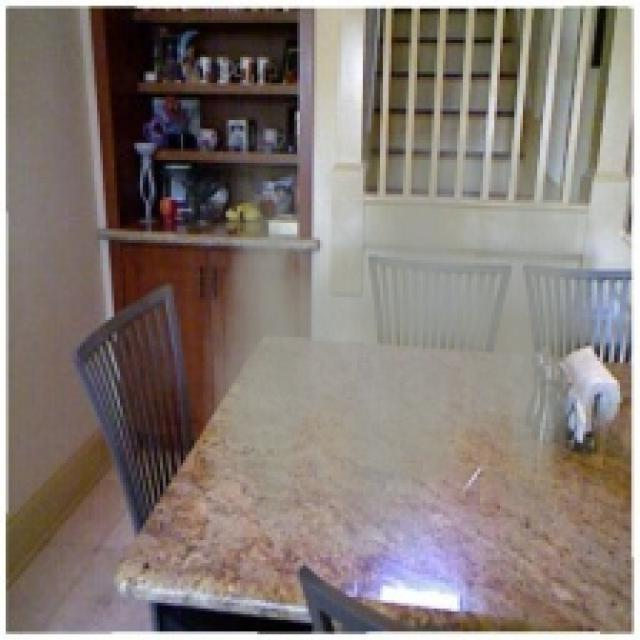Smoke: (202, 134, 598, 557)
